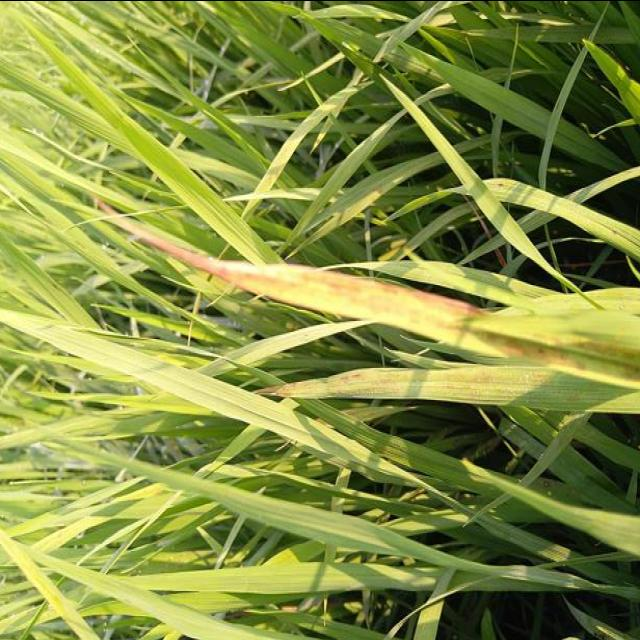Leaf Streak: (107, 213, 640, 406)
